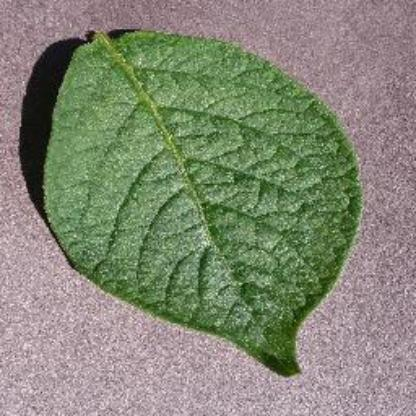Healthy-plant: (40, 20, 364, 378)
